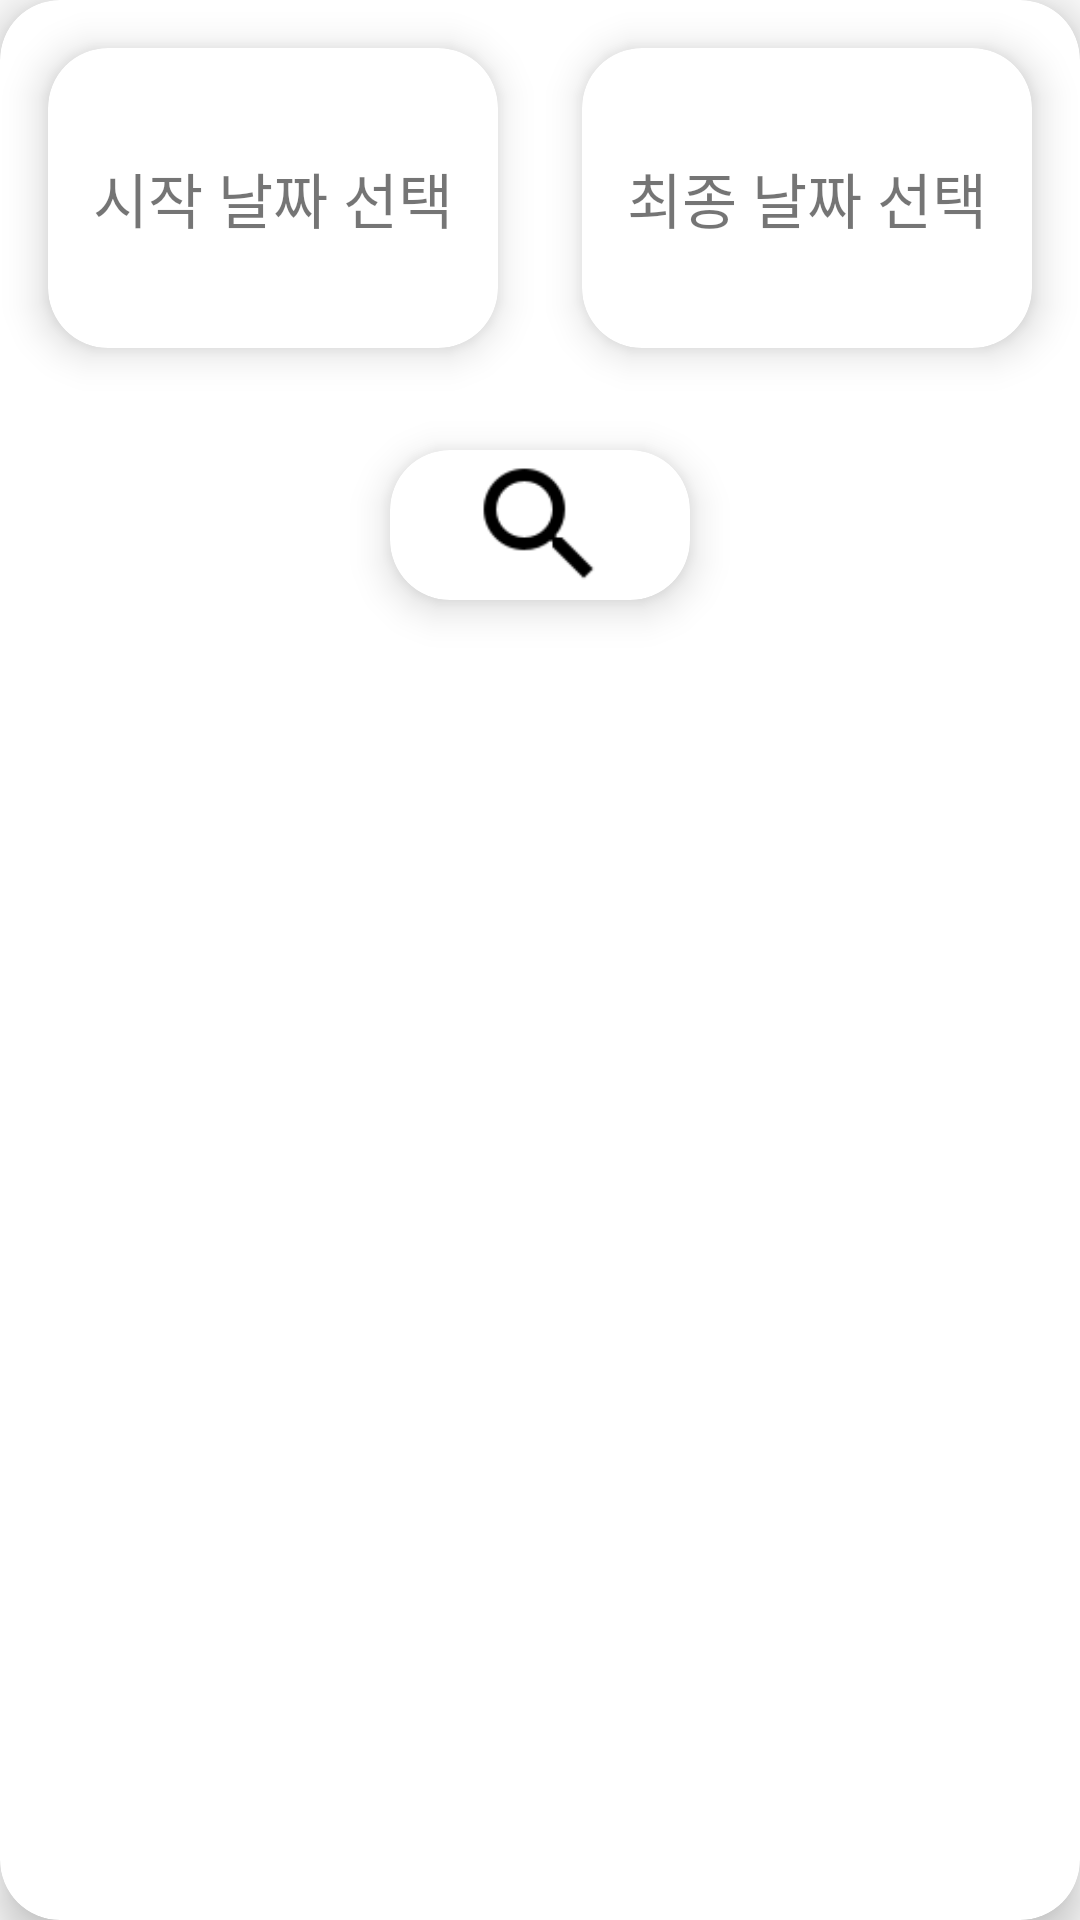

Icons on this 1080×1920 Android screen, each with its box as (x1, y1, x2, y2):
search: (483, 468, 593, 578)
